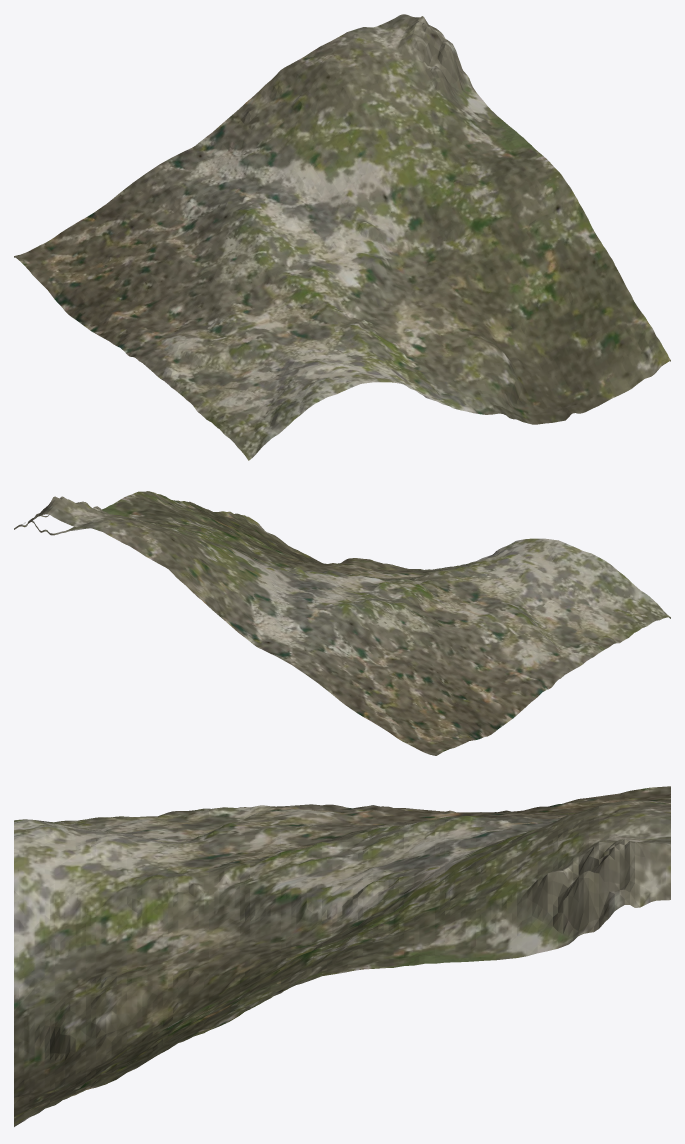
3 views of the same model, one above another, from view 1: azimuth 30°, elevation 25°; view 2: azimuth 150°, elevation 25°; view 3: azimuth 270°, elevation 25° (orthographic). The views are drawn at different scales.
Bounding box in the file's own units: 250 × 127 × 241.
1 material, 1 textured.
